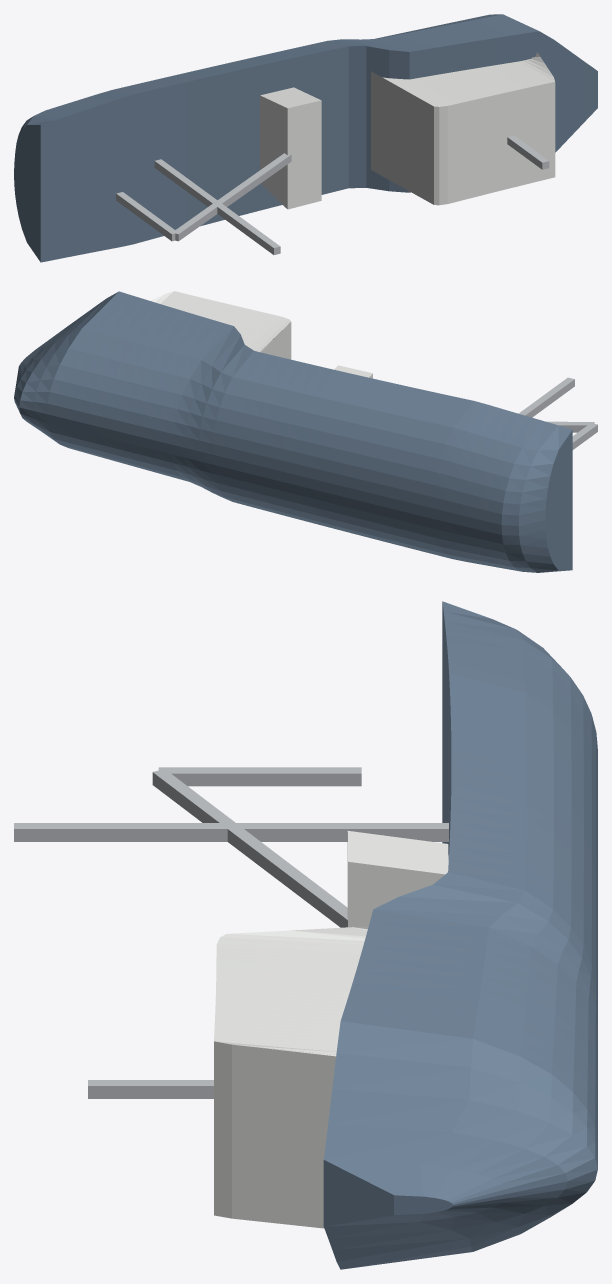
File: loft-restricted-ability-highside.glb
3 renders of one model, top to bottom at view 1: azimuth 30°, elevation 25°; view 2: azimuth 150°, elevation 25°; view 3: azimuth 270°, elevation 25°, orthographic. The views are drawn at different scales.
Parts seen in each view (by area): view 1: restricted-ability-loft-highside; view 2: restricted-ability-loft-highside; view 3: restricted-ability-loft-highside.
Boxes of the visible parts, bbox=[...] form: restricted-ability-loft-highside: bbox=[14, 14, 597, 262]; restricted-ability-loft-highside: bbox=[14, 291, 597, 572]; restricted-ability-loft-highside: bbox=[14, 601, 597, 1269].
Size of the model in its own units: 1.9 by 0.5056 by 0.9797.
